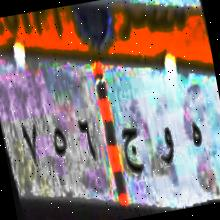5: (48, 116, 72, 166)
6: (74, 112, 100, 174)
7: (19, 118, 46, 172)
haa: (182, 103, 208, 160)
jeem: (118, 119, 150, 188)
waw: (150, 112, 182, 181)
